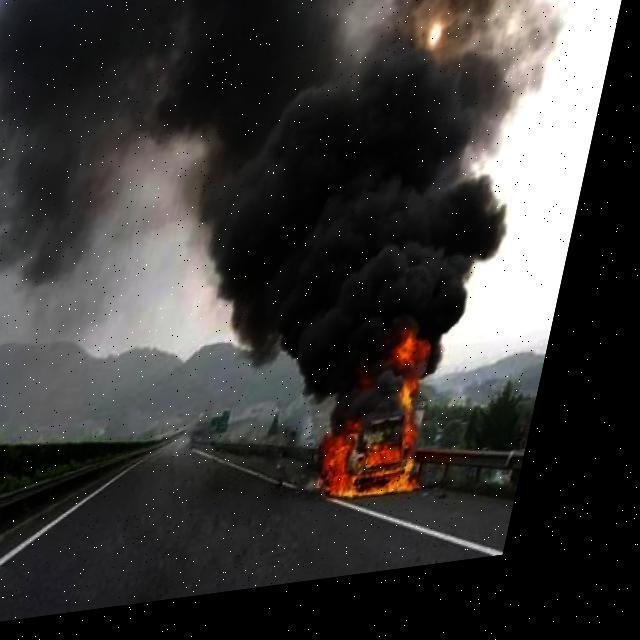Fire: (336, 326, 472, 516)
